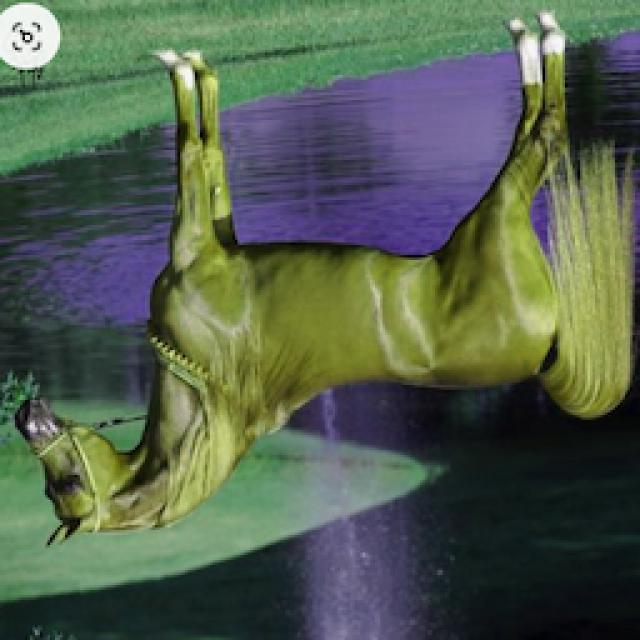Horse: (8, 8, 640, 555)
